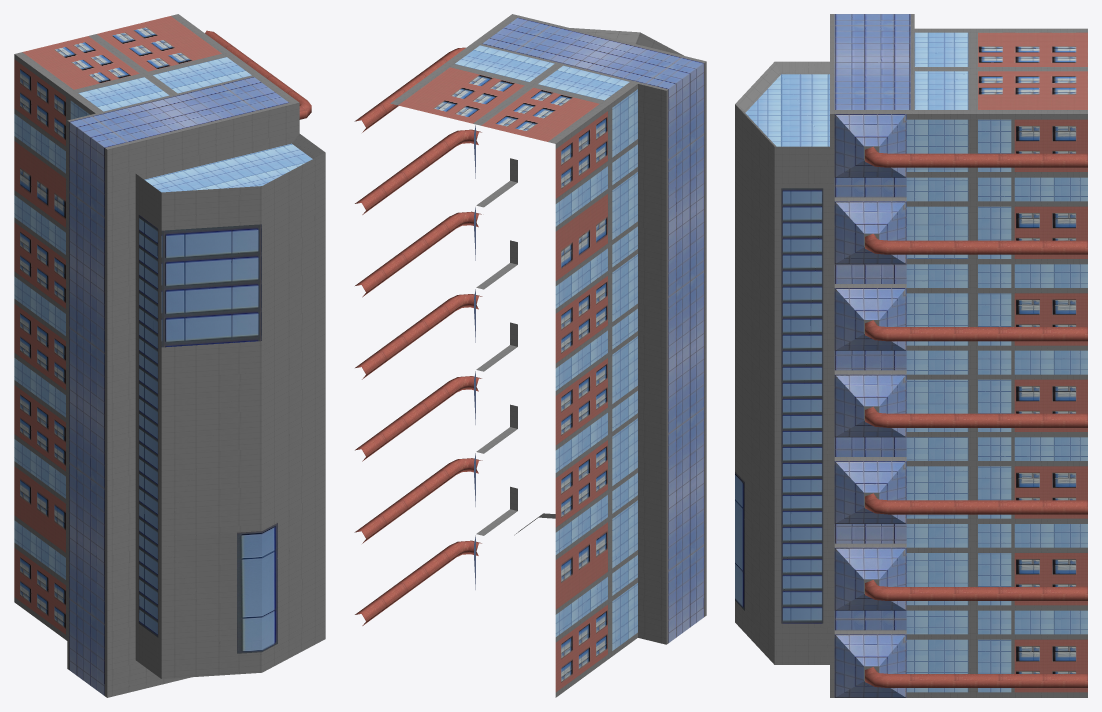
The model's file is sgy_h2.gltf.
3 views of the same model, side by side, from view 1: azimuth 30°, elevation 25°; view 2: azimuth 150°, elevation 25°; view 3: azimuth 270°, elevation 25° (orthographic). The views are drawn at different scales.
Parts seen in each view (by area): view 1: Box005; view 2: Box005; view 3: Box005.
Boxes of the visible parts, x1,y1,x2,y2 form: Box005: (14, 14, 325, 697); Box005: (354, 14, 706, 697); Box005: (735, 14, 1087, 697).
Bounding box in the file's own units: 35.16 × 80.89 × 44.3.
6 materials, 6 textured.
